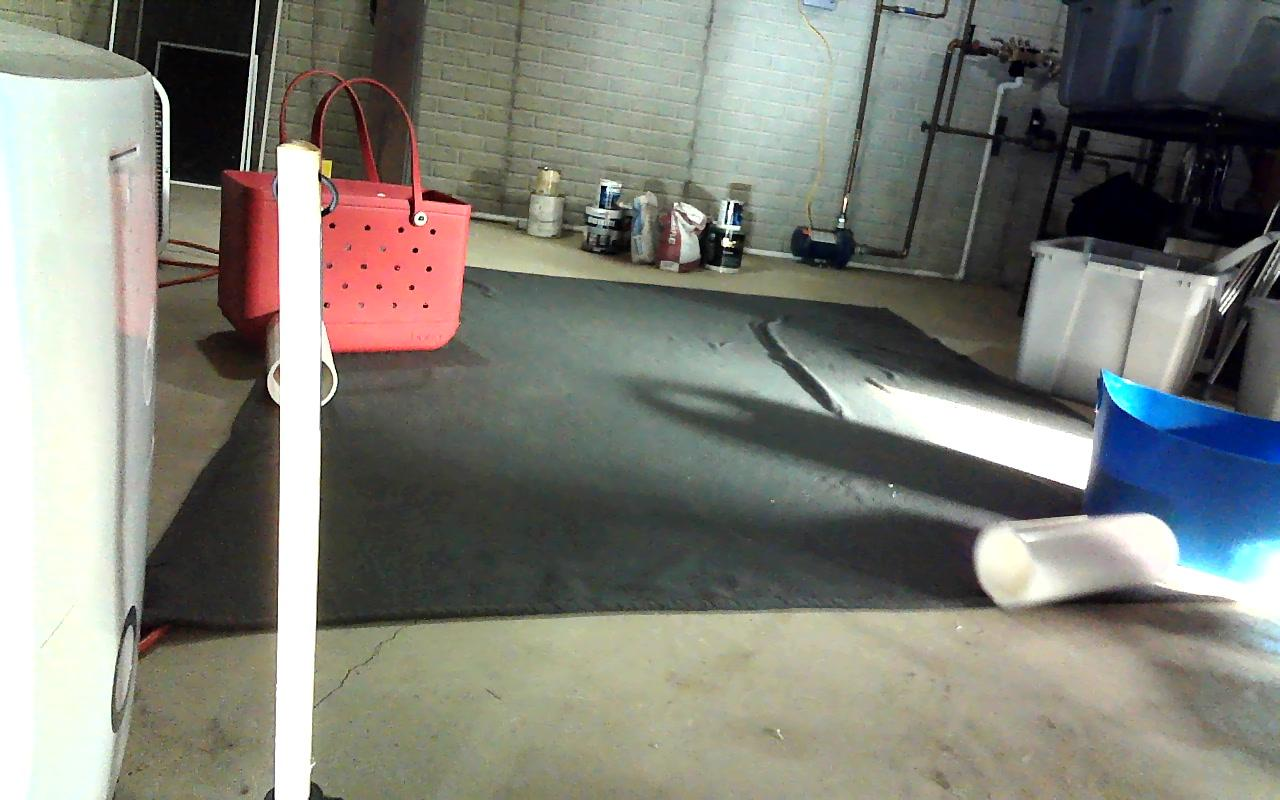coral: (974, 514, 1176, 607), (266, 310, 336, 407)
